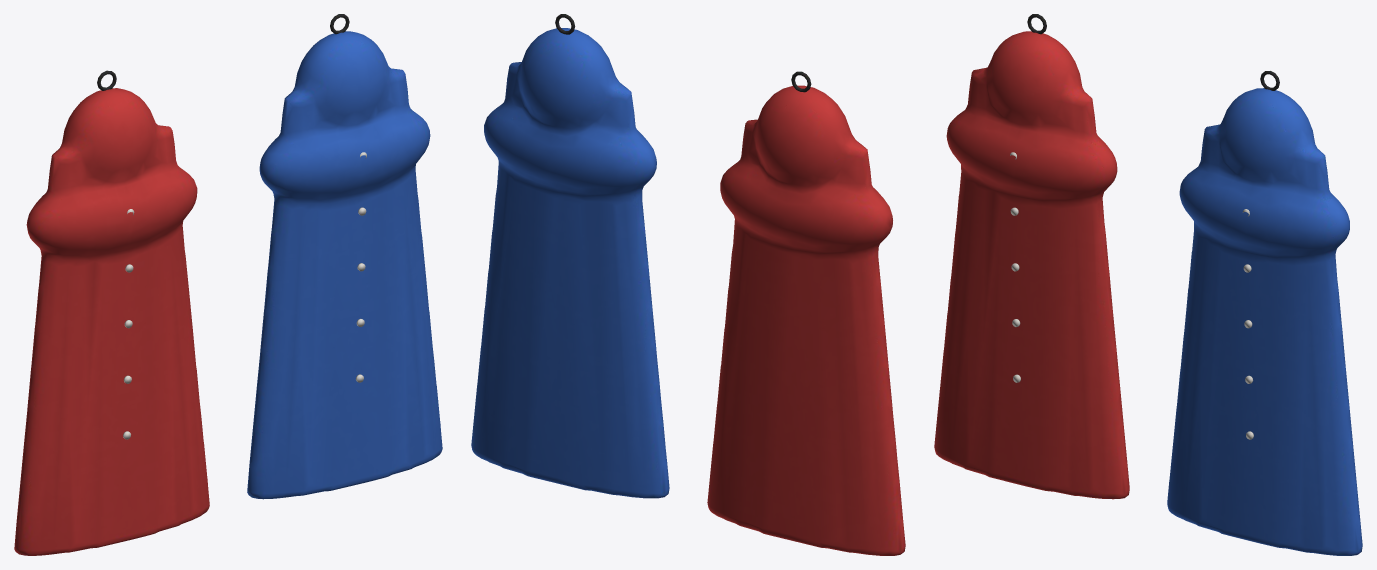
File: keepsake-raincoats.glb
3 views of the same model, side by side, from view 1: azimuth 30°, elevation 25°; view 2: azimuth 150°, elevation 25°; view 3: azimuth 330°, elevation 25° (orthographic).
Visible parts, largest first — view 1: keepsake-raincoats; view 2: keepsake-raincoats; view 3: keepsake-raincoats.
Part boxes in pixels (x1,y1,x2,y2): keepsake-raincoats: (14, 14, 442, 555); keepsake-raincoats: (471, 14, 905, 555); keepsake-raincoats: (934, 14, 1362, 555).
Size of the model in its own units: 0.9224 by 0.95 by 0.1481.
1 material, 1 textured.
